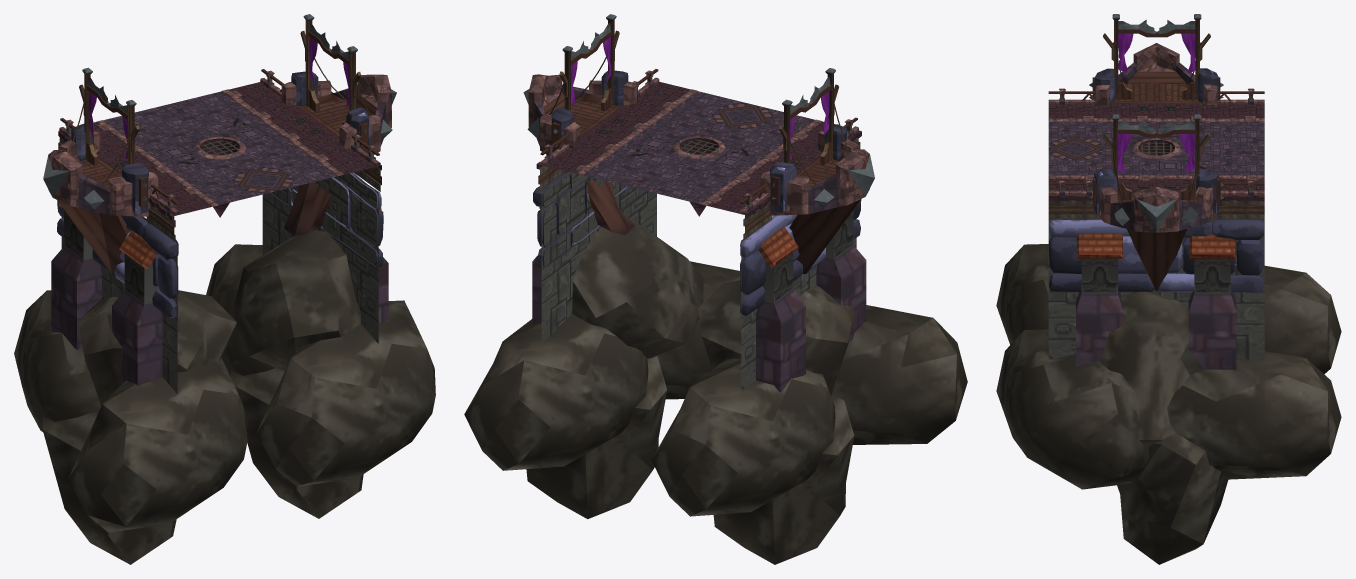
Rendered from Hallway_I_16_B.fbx.
3 renders of one model, left to right at view 1: azimuth 30°, elevation 25°; view 2: azimuth 150°, elevation 25°; view 3: azimuth 270°, elevation 25°, orthographic. The views are drawn at different scales.
Visible parts, largest first — view 1: Hallway_I_16_B; view 2: Hallway_I_16_B; view 3: Hallway_I_16_B.
Boxes of the visible parts, x1,y1,x2,y2 form: Hallway_I_16_B: [14, 14, 435, 564]; Hallway_I_16_B: [464, 14, 967, 564]; Hallway_I_16_B: [996, 14, 1341, 564].
Bounding box in the file's own units: 3042 × 3591 × 2559.
